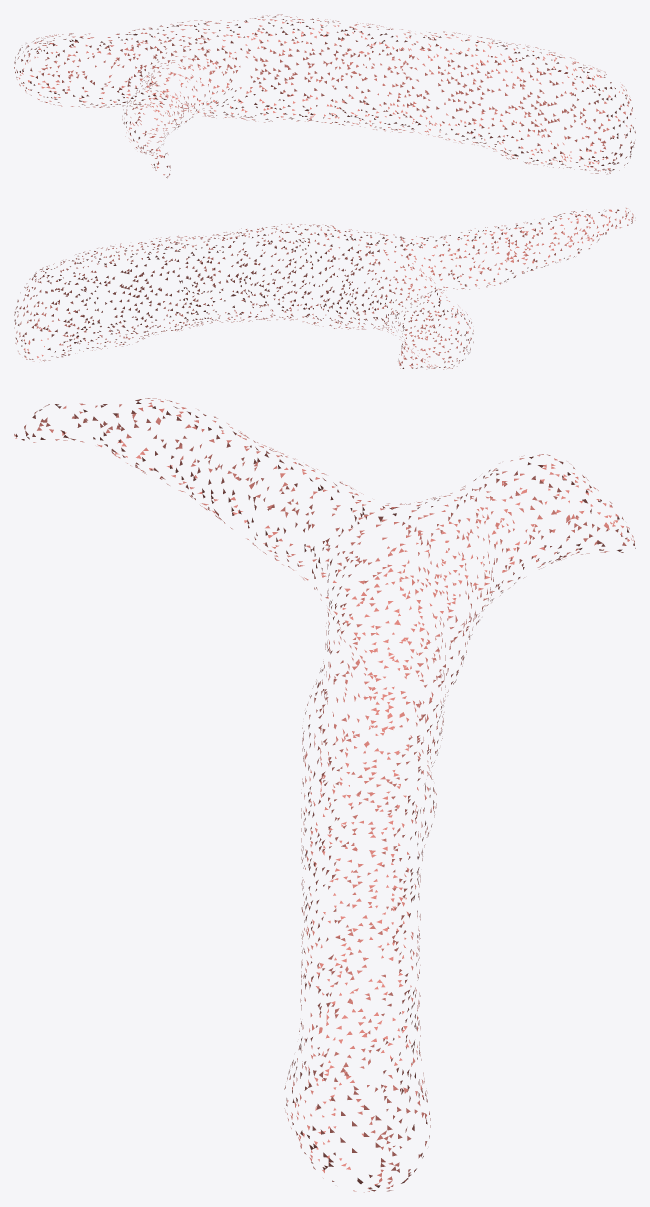
The model's file is morph_001.glb.
3 renders of one model, top to bottom at view 1: azimuth 30°, elevation 25°; view 2: azimuth 150°, elevation 25°; view 3: azimuth 270°, elevation 25°, orthographic. The views are drawn at different scales.
Size of the model in its own units: 131 by 52.91 by 77.66.
